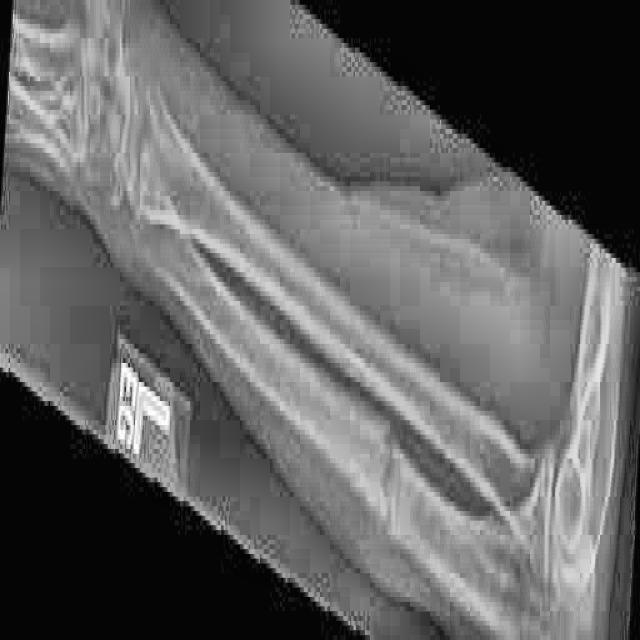forearm fracture: (349, 351, 426, 596)
